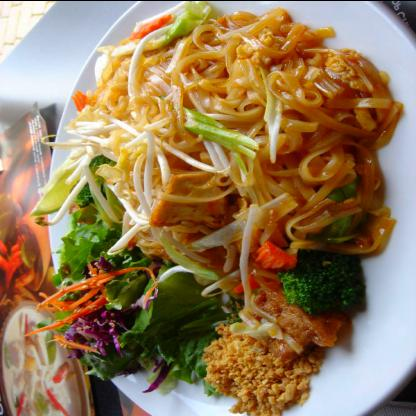Pad Thai: (54, 1, 396, 388)
